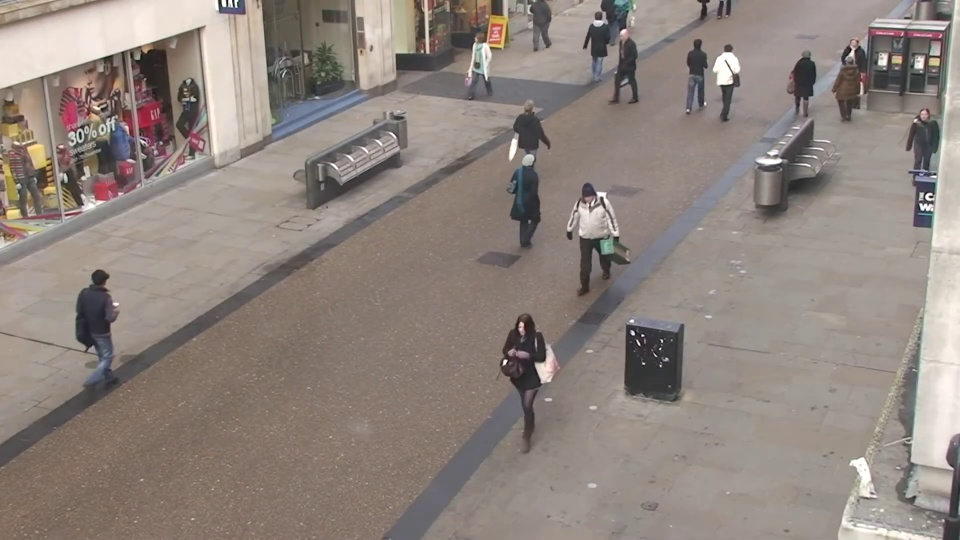pedestrian: (91, 254, 147, 383), (498, 315, 545, 463), (895, 106, 940, 203), (564, 183, 600, 297), (520, 147, 554, 253), (825, 51, 859, 133), (522, 95, 552, 186), (835, 35, 868, 113), (787, 43, 818, 121), (714, 37, 741, 112), (687, 33, 713, 106), (462, 30, 488, 102), (603, 29, 627, 101), (588, 8, 610, 74)
